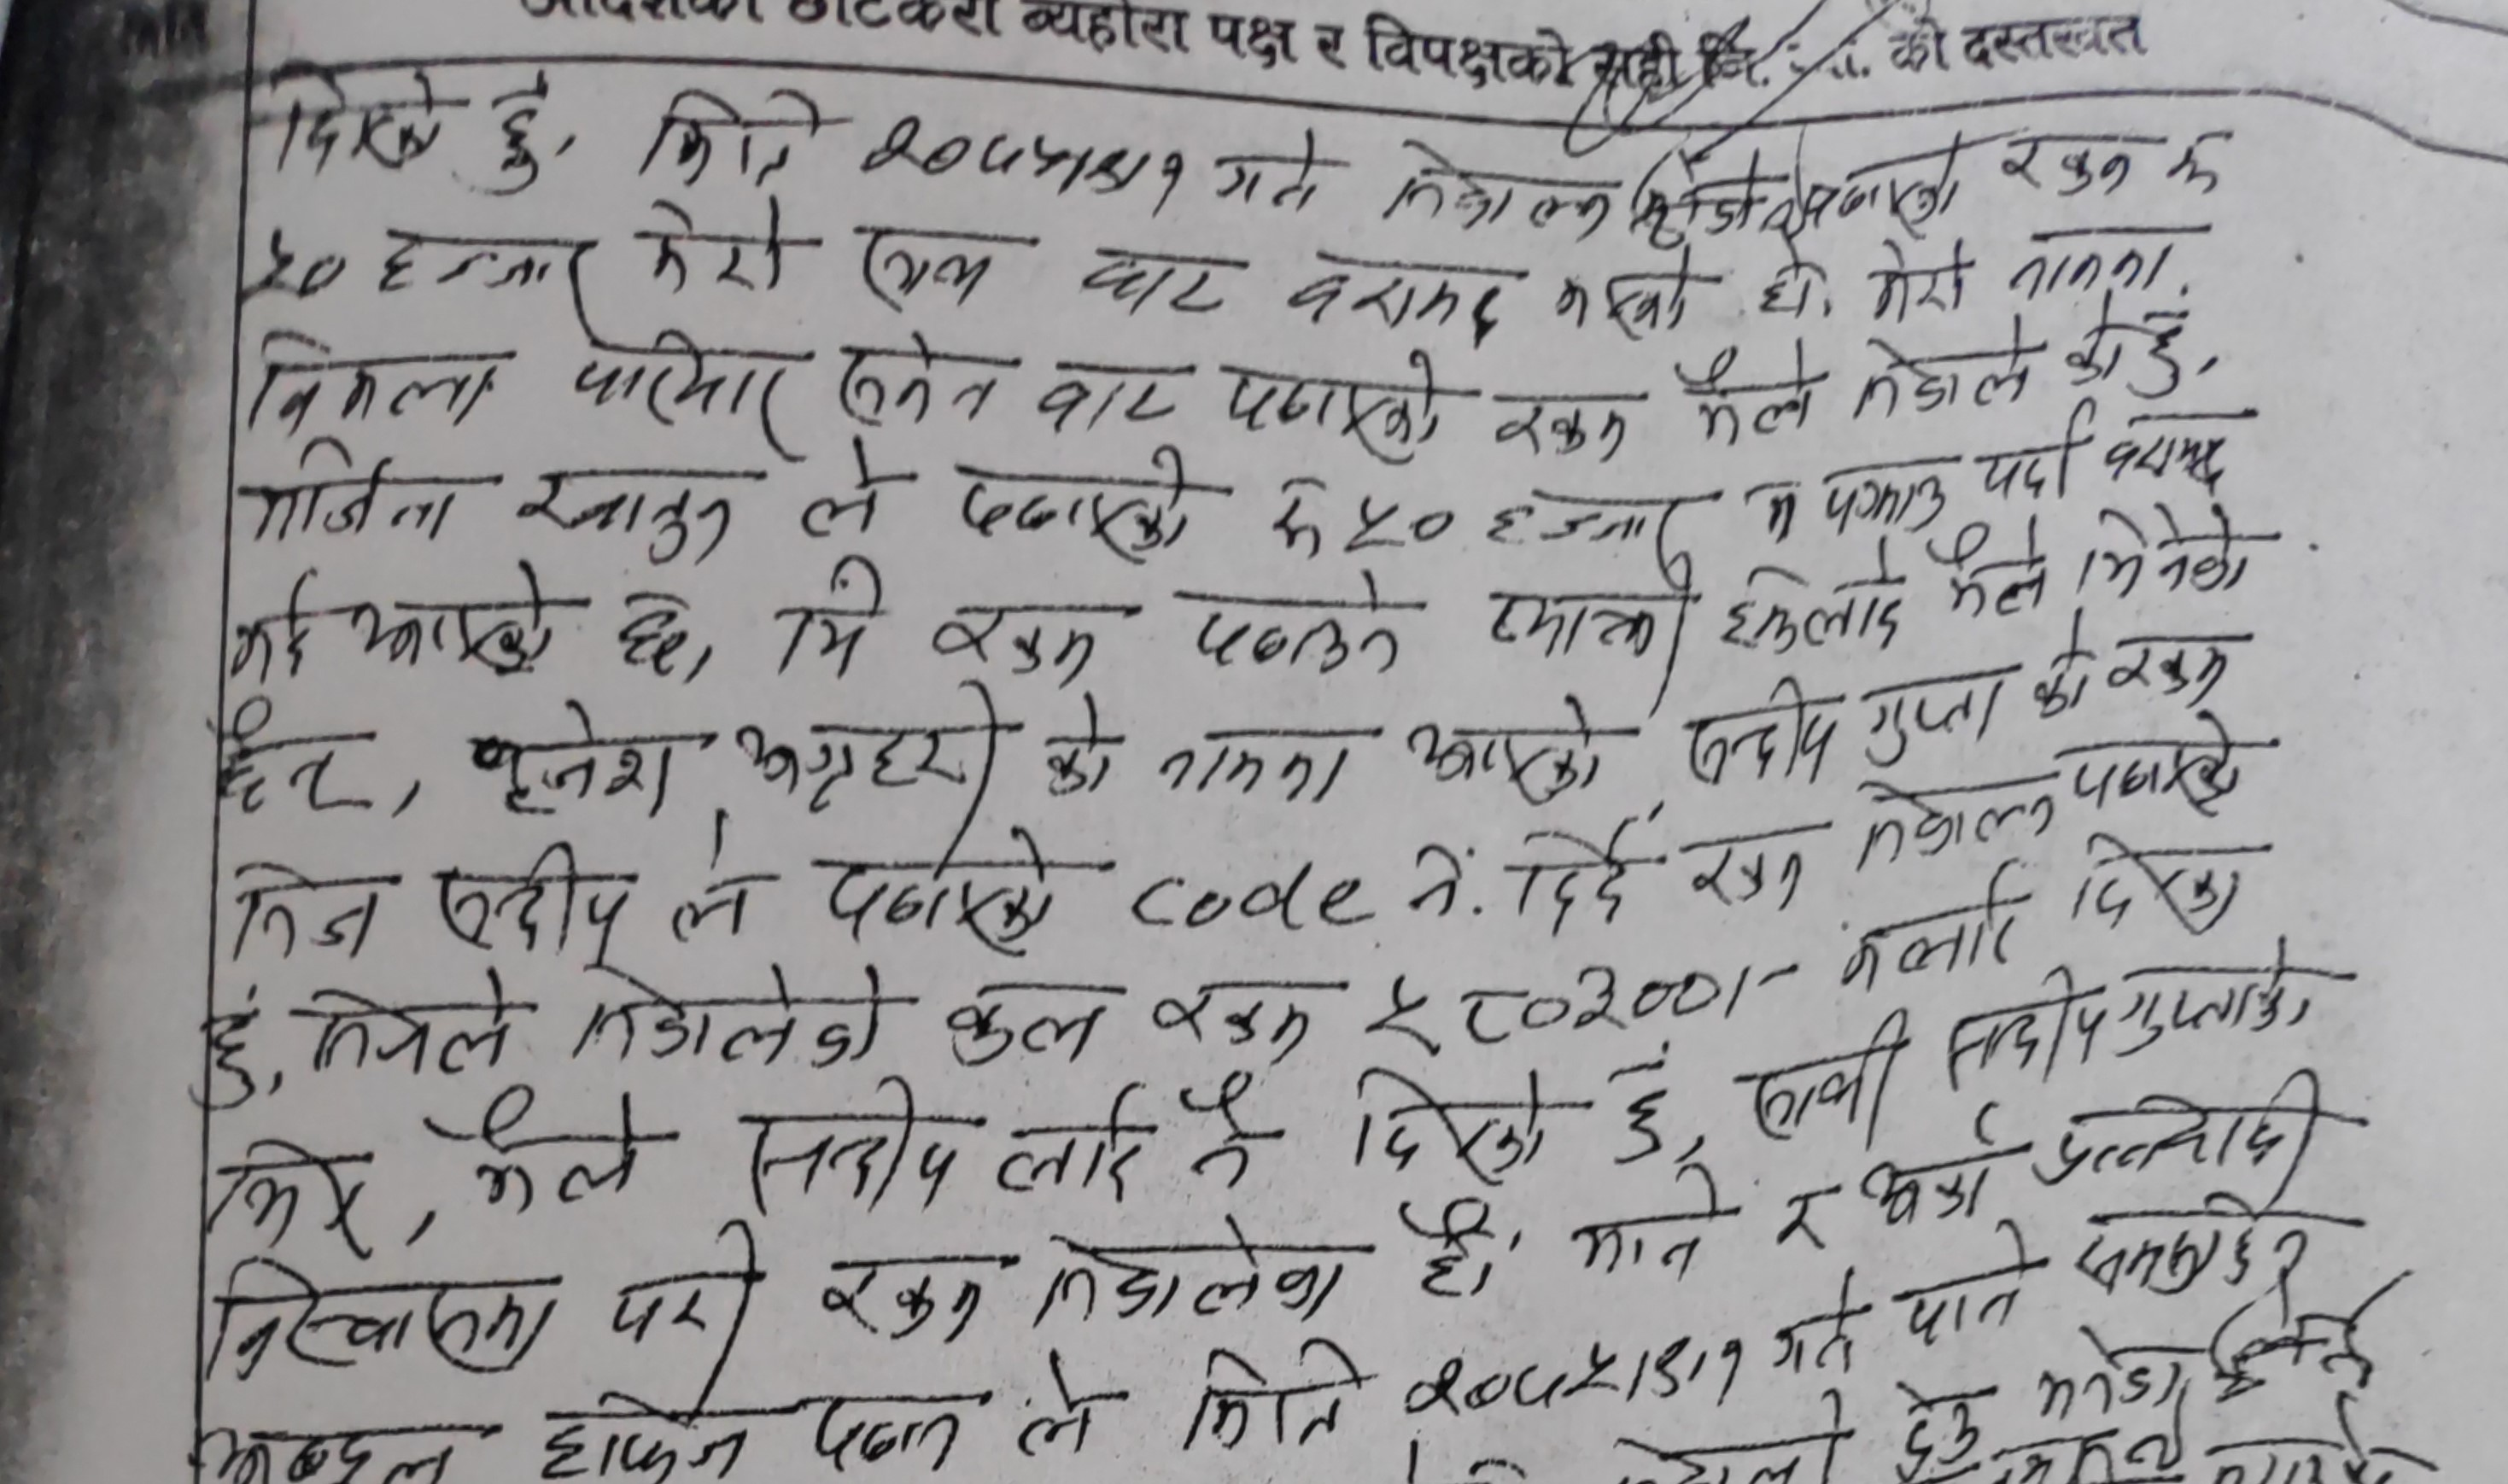text: (207, 1261, 562, 1390), (726, 675, 1001, 818), (855, 104, 1189, 221), (1369, 940, 1724, 1048), (2042, 1072, 2330, 1194), (567, 322, 814, 461), (1040, 1212, 1349, 1323), (565, 963, 883, 1071), (738, 1074, 968, 1219), (1394, 1330, 1754, 1422), (818, 825, 1060, 959), (945, 443, 1190, 574), (2065, 1185, 2323, 1306), (1217, 348, 1455, 470), (1178, 564, 1409, 684), (463, 700, 689, 822), (1471, 574, 1690, 696), (1740, 1002, 1916, 1152), (244, 327, 498, 431), (1341, 1062, 1552, 1185), (1385, 134, 1614, 244), (424, 837, 636, 956), (246, 440, 459, 555), (609, 1217, 763, 1376), (304, 966, 521, 1078), (1401, 687, 1605, 804), (367, 223, 597, 325), (1284, 247, 1517, 348), (1835, 862, 2026, 982), (459, 1088, 650, 1208), (2111, 943, 2307, 1060), (357, 569, 562, 680), (200, 1129, 383, 1253), (514, 466, 735, 569), (1719, 542, 1907, 661), (535, 1385, 756, 1484), (2065, 703, 2255, 816), (1938, 961, 2104, 1090), (1840, 314, 2035, 424), (987, 1083, 1152, 1212), (1839, 767, 2056, 862), (258, 65, 449, 171), (1563, 1164, 1726, 1288), (1183, 1334, 1353, 1452), (2058, 830, 2250, 933), (191, 1413, 470, 1484), (646, 81, 827, 187), (1888, 1224, 2040, 1350), (207, 710, 376, 822), (816, 1247, 996, 1352), (834, 329, 1012, 433), (1680, 677, 1840, 791), (1265, 472, 1454, 569), (2081, 504, 2270, 601), (1855, 654, 2012, 769), (1477, 479, 1683, 565), (918, 588, 1106, 684), (629, 194, 800, 297), (1159, 721, 1351, 811), (1667, 343, 1823, 454), (1507, 811, 1648, 931), (226, 857, 389, 961), (1552, 244, 1703, 355), (1855, 1117, 2012, 1223), (1800, 134, 1968, 230), (941, 975, 1113, 1067), (2029, 1318, 2179, 1420), (804, 1390, 973, 1479), (768, 558, 885, 684), (851, 223, 1010, 314), (1148, 975, 1318, 1060), (1084, 240, 1231, 329), (1998, 224, 2183, 293), (1487, 387, 1641, 470), (1171, 1067, 1265, 1203), (1934, 518, 2052, 624), (1024, 359, 1182, 436), (1973, 405, 2091, 504), (2095, 412, 2238, 493), (1404, 1194, 1510, 1304), (1996, 122, 2144, 198), (1003, 1352, 1100, 1465), (793, 426, 888, 541), (1213, 117, 1330, 210), (2098, 631, 2245, 705), (230, 574, 329, 684), (1863, 233, 1980, 325), (1890, 1376, 1989, 1484), (1687, 834, 1817, 915), (1817, 461, 1957, 537), (1763, 1277, 1863, 1376), (669, 832, 754, 949), (238, 221, 350, 309), (1037, 691, 1122, 804), (1597, 1044, 1673, 1170), (193, 998, 261, 1111), (613, 588, 692, 684), (493, 71, 551, 200), (1749, 231, 1826, 327), (2051, 297, 2127, 390), (1404, 839, 1480, 933), (2029, 620, 2093, 719), (2164, 125, 2245, 201), (1770, 1182, 1835, 1263), (2139, 307, 2190, 403), (1750, 479, 1809, 542)
